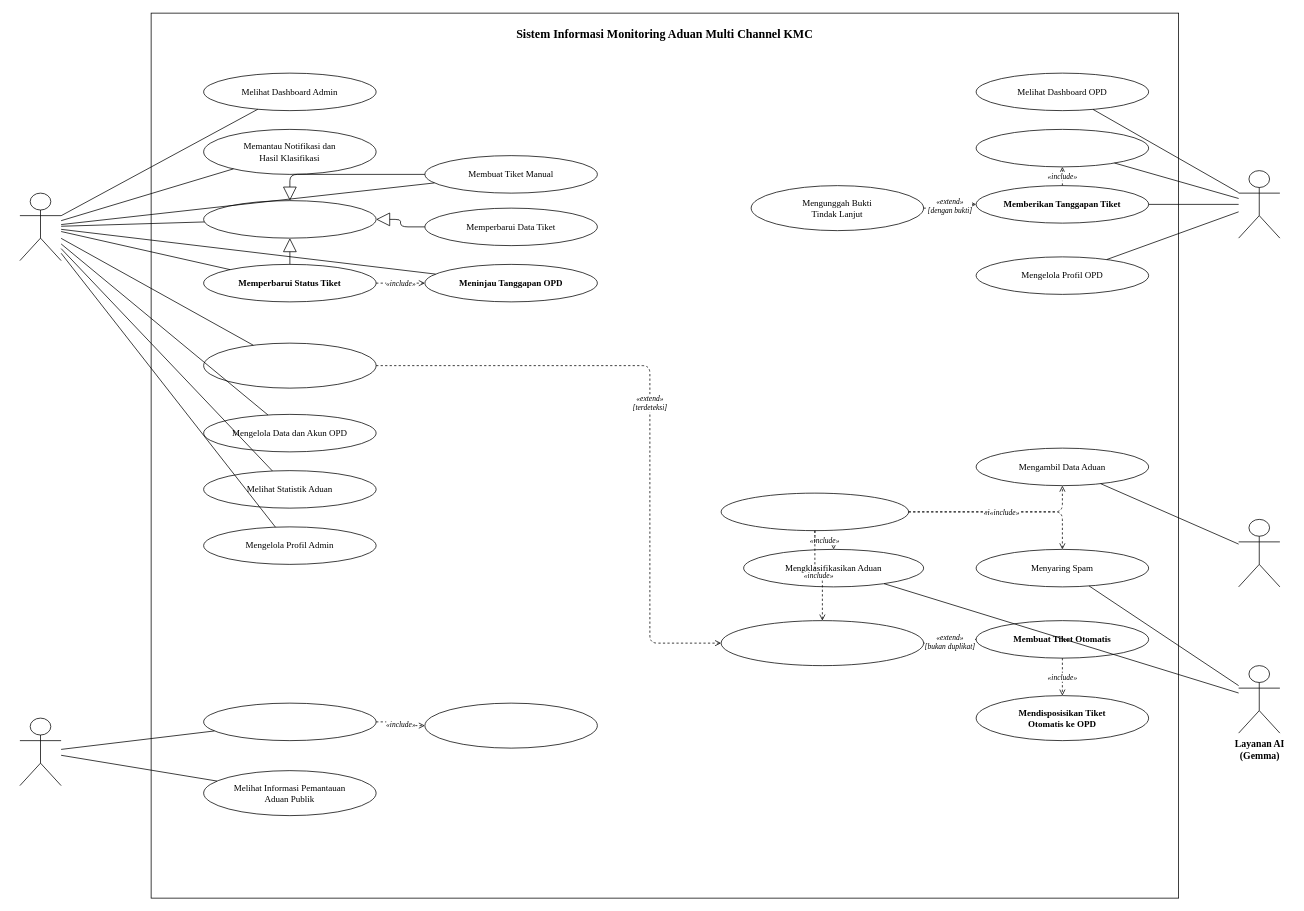
Some shapes in this 1304 by 911 pixel diagram are drawn without their labels. Each missing label, with the centre of its shape:
Admin KMC: (x=40, y=226)
Masyarakat: (x=40, y=751)
Melacak Tiket: (x=289, y=721)
Melihat Status dan Riwayat Tiket: (x=510, y=725)
Melihat Tiket OPD: (x=1062, y=148)
Memproses Aduan Masuk: (x=814, y=511)
Memverifikasi Kemungkinan Duplikasi: (x=289, y=365)
Mendeteksi Kemungkinan Duplikasi (Cosine Similarity): (x=822, y=643)
Mengelola Tiket: (x=289, y=219)
Pengguna OPD: (x=1259, y=204)
Scraper Playwright: (x=1259, y=553)
